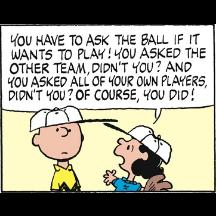charlie: (31, 105, 86, 192)
